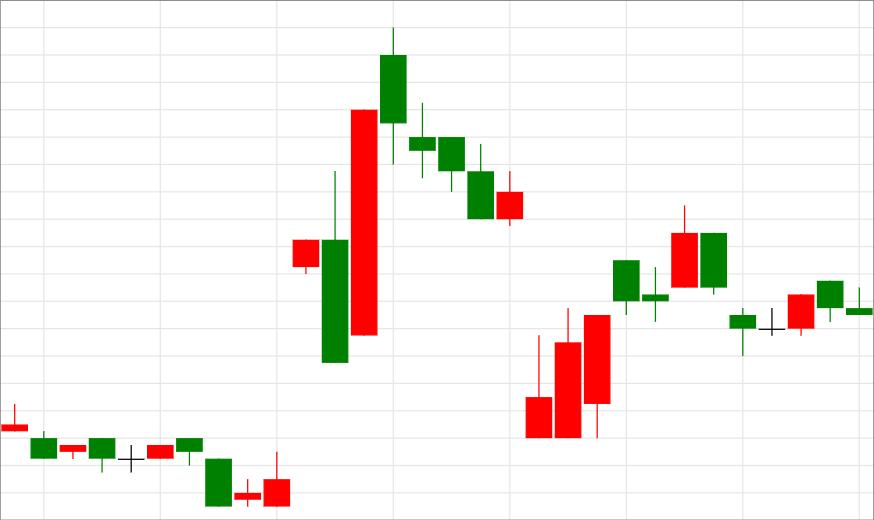inverse_hammer_rise: (379, 26, 553, 438)
